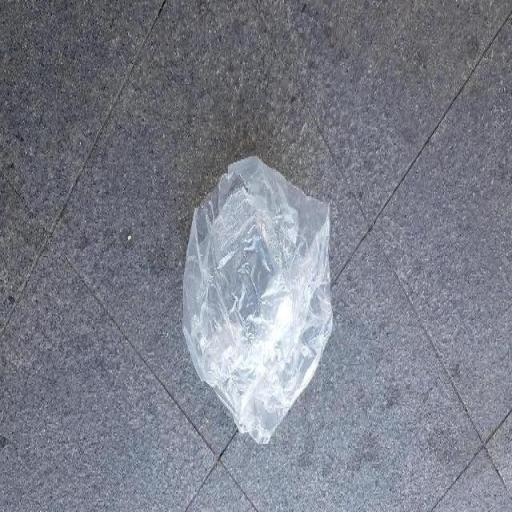plastic-bag: (180, 153, 334, 449)
